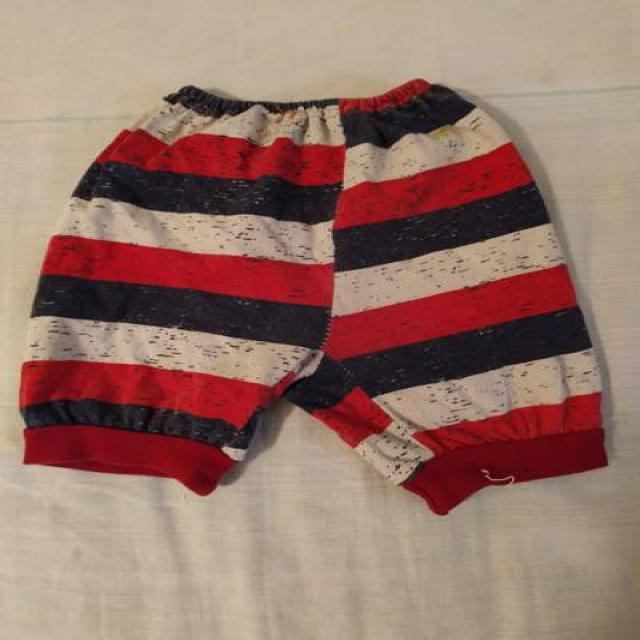Clothes -Biodegradable-: (15, 73, 600, 526)
